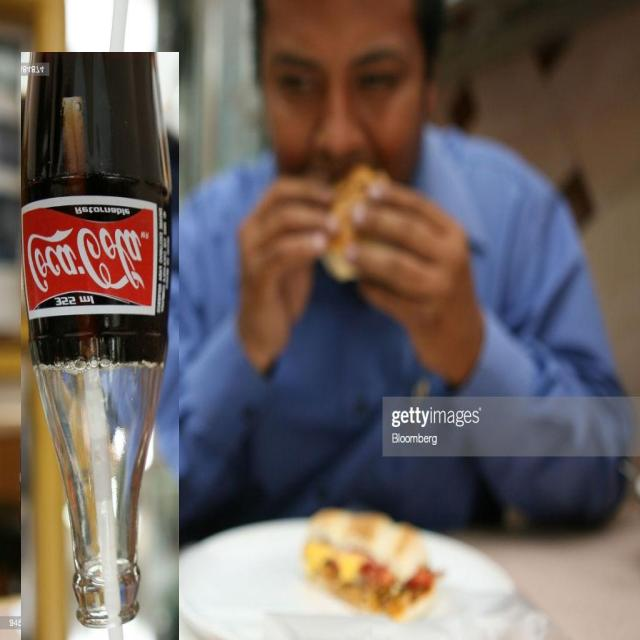coca-cola: (21, 52, 179, 640)
